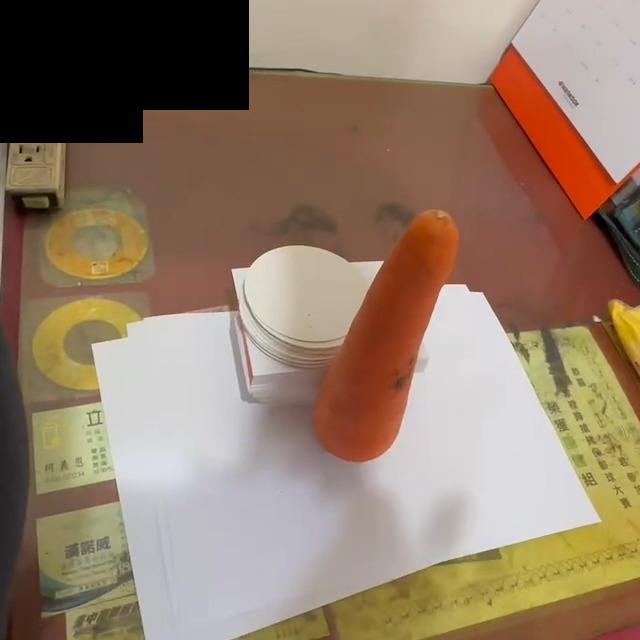carrot: (314, 212, 462, 464)
